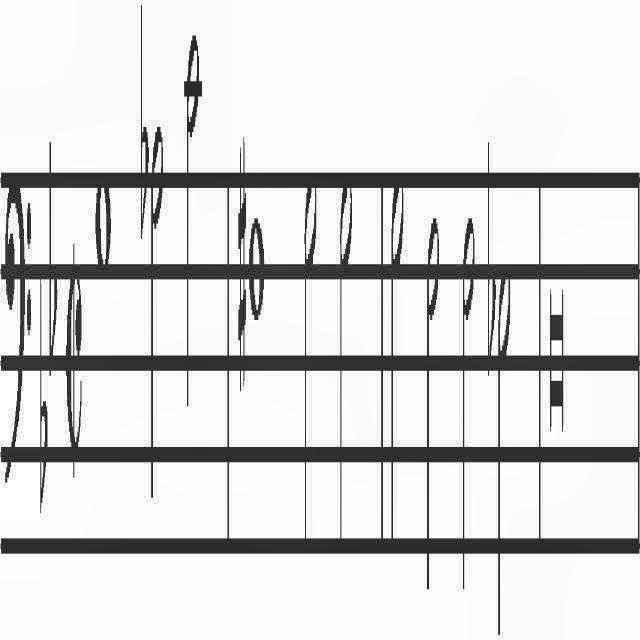Bemol: (39, 269, 49, 526), (48, 127, 58, 375), (488, 130, 496, 382), (140, 0, 148, 244)
Diez: (237, 143, 247, 397)
Full-note: (94, 168, 112, 276), (248, 209, 264, 327)
Half-note: (424, 209, 440, 606), (151, 105, 165, 518), (185, 22, 199, 432), (303, 159, 317, 559), (462, 209, 476, 606), (391, 168, 405, 560), (340, 165, 352, 562), (498, 254, 510, 638)
